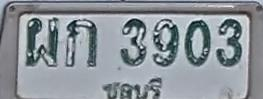0: (185, 19, 210, 66)
3: (216, 18, 242, 66), (120, 18, 146, 66)
9: (152, 18, 179, 66)
A01: (65, 18, 98, 68)
A28: (24, 17, 58, 67)
CBI: (100, 76, 165, 99)
